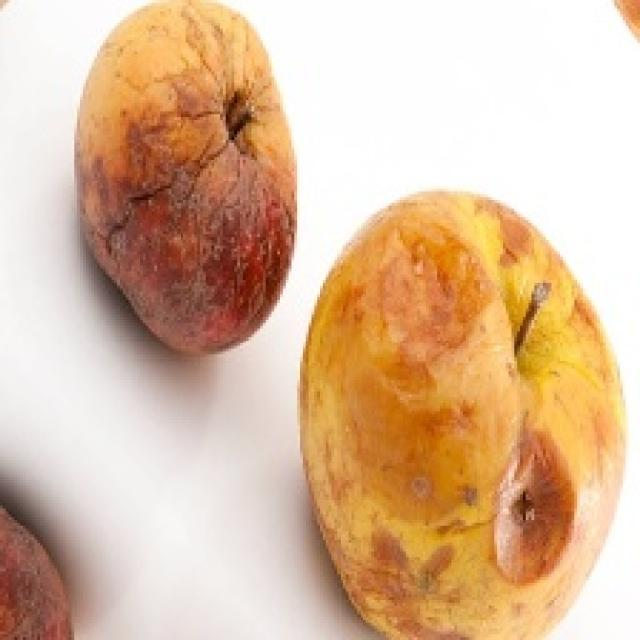rotten_apple: (306, 191, 618, 640), (83, 4, 296, 346)
